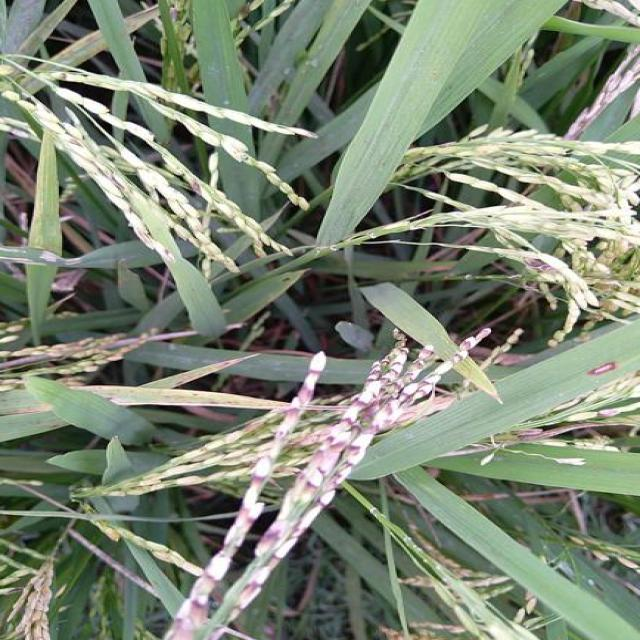Panicle Blight: (165, 327, 493, 640)
